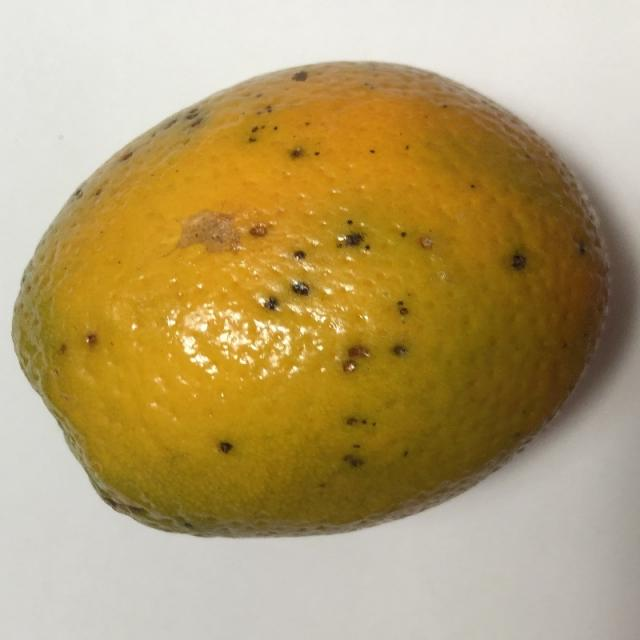blackspot: (11, 44, 622, 582)
